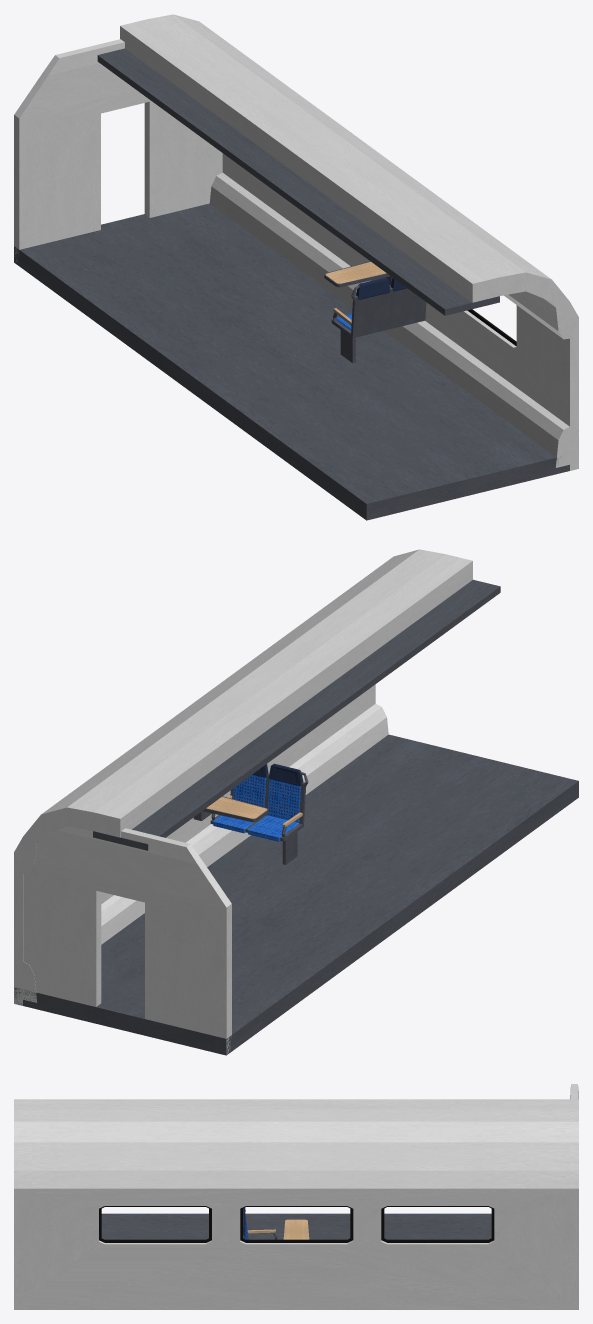
Rendered from 250324_TrainMenu_0.gltf.
3 views of the same model, one above another, from view 1: azimuth 30°, elevation 25°; view 2: azimuth 150°, elevation 25°; view 3: azimuth 270°, elevation 25° (orthographic). The views are drawn at different scales.
Parts seen in each view (by area): view 1: Room_Floor, Room_wall1, Room_DoorWall, Room_CeilingThing, Seat_Plastic, Table_Wood, Seat_Head; view 2: Room_Floor, Room_wall1, Room_DoorWall, Room_CeilingThing, Seat_Padding, Seat_Plastic, Table_Wood, Seat_Head; view 3: Room_wall1, Room_Floor, Room_WindowBlack, Table_Wood.
Part boxes in pixels (x1,y1,x2,y2): Room_Floor: (14, 203, 569, 520); Room_wall1: (120, 14, 578, 470); Room_DoorWall: (14, 39, 222, 265); Room_CeilingThing: (97, 48, 499, 315); Seat_Plastic: (331, 285, 426, 338); Table_Wood: (326, 262, 386, 283); Seat_Head: (356, 277, 406, 299); Room_Floor: (14, 734, 578, 1055); Room_wall1: (14, 549, 472, 1005); Room_DoorWall: (23, 826, 231, 1054); Room_CeilingThing: (93, 579, 500, 850); Seat_Padding: (213, 774, 300, 841); Seat_Plastic: (210, 771, 308, 841); Table_Wood: (206, 797, 266, 818); Seat_Head: (252, 763, 303, 785); Room_wall1: (14, 1099, 578, 1309); Room_Floor: (101, 1213, 491, 1239); Room_WindowBlack: (99, 1206, 494, 1242); Table_Wood: (283, 1219, 309, 1239).
Size of the model in its own units: 1.74 by 1.65 by 5.
7 materials, 7 textured.
